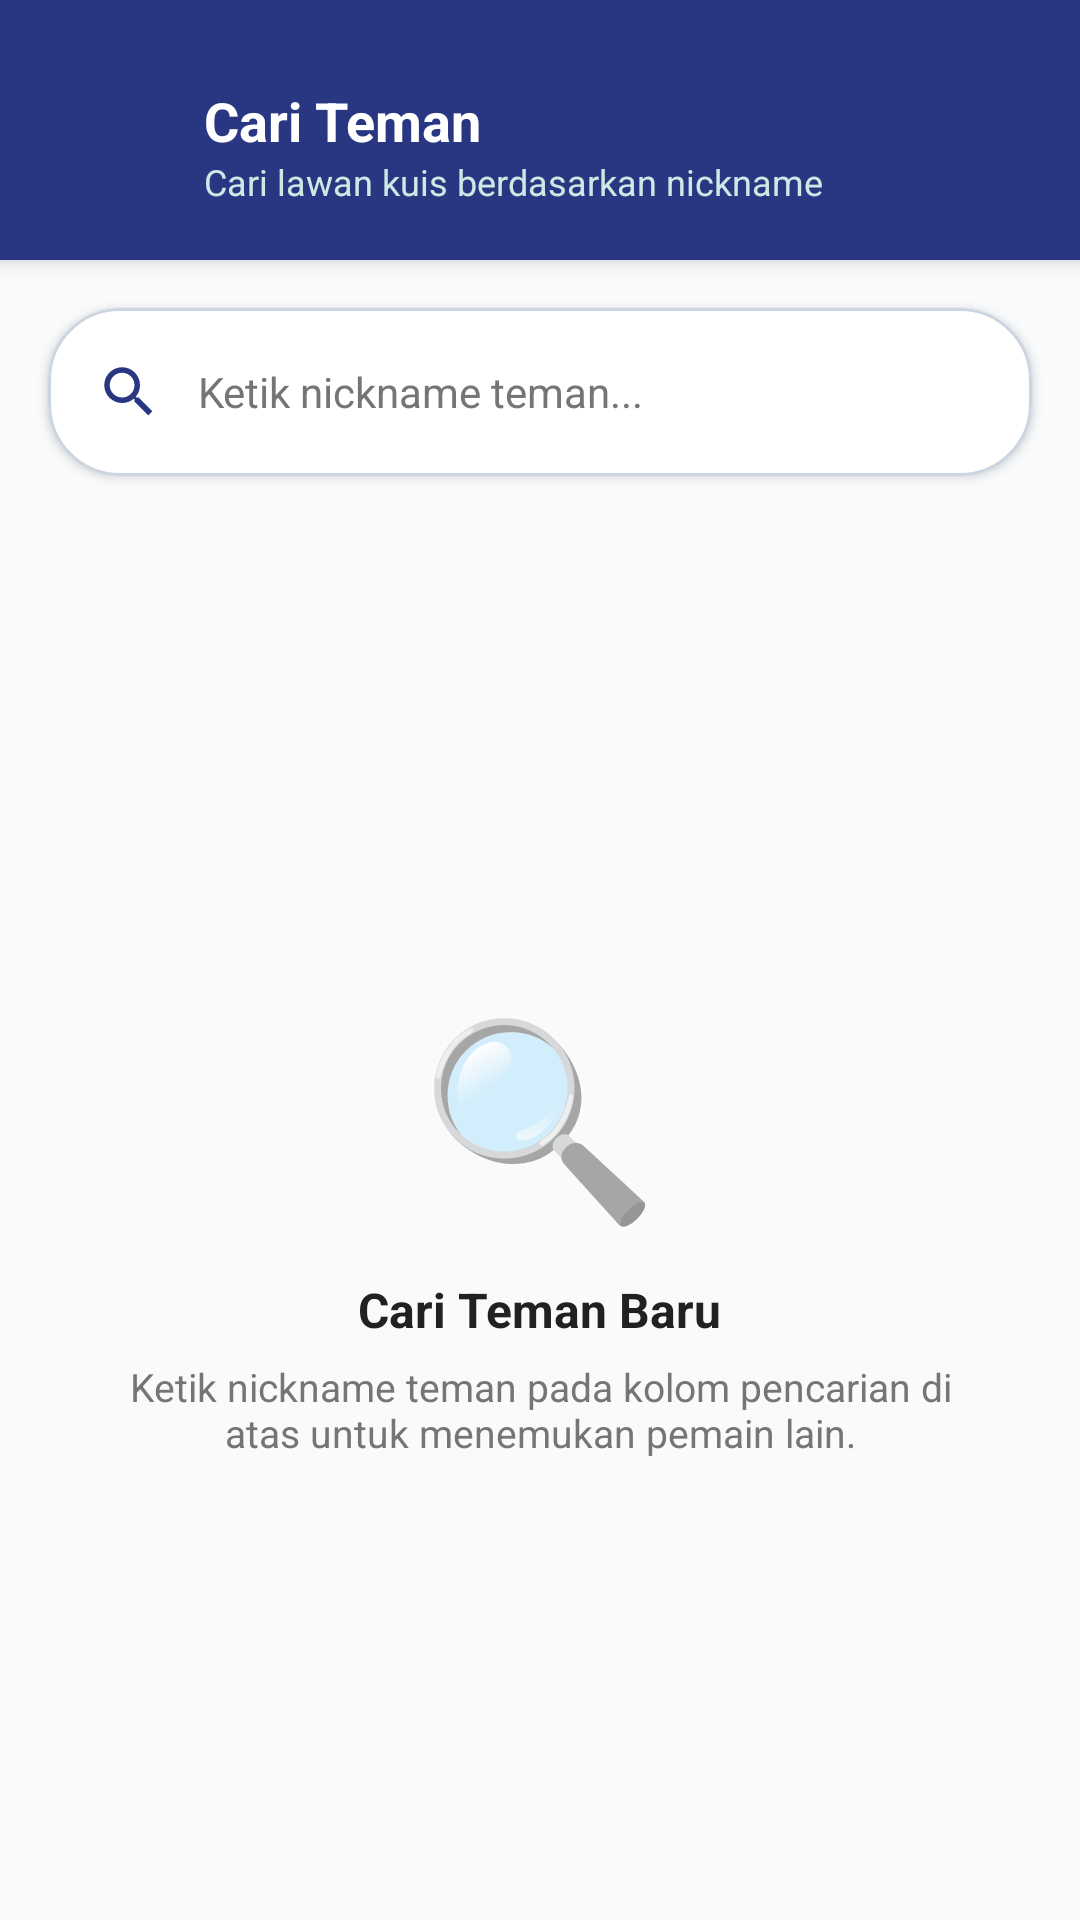

Locate icon controls on the screen. Image size 1080*1920, boxes as {"x1": x1, "y1": y1, "x2": x2, "y2": y2}.
Cari: {"x1": 104, "y1": 367, "x2": 153, "y2": 416}
